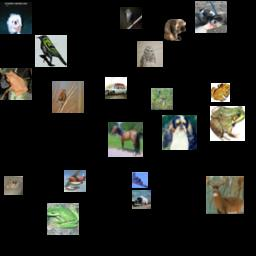airplane: (64, 170, 86, 192), (132, 172, 148, 188)
automobile: (105, 77, 127, 99)
bird: (52, 81, 84, 113), (35, 35, 67, 67), (137, 41, 163, 67), (120, 7, 142, 29)
cat: (164, 19, 186, 41)
deer: (206, 176, 244, 214), (151, 88, 173, 110)
dog: (162, 115, 197, 150), (0, 2, 32, 34), (195, 1, 227, 33), (4, 176, 23, 195)
frog: (210, 106, 245, 141), (47, 203, 79, 235), (0, 68, 32, 100), (211, 83, 230, 102)
truck: (132, 190, 151, 209)
